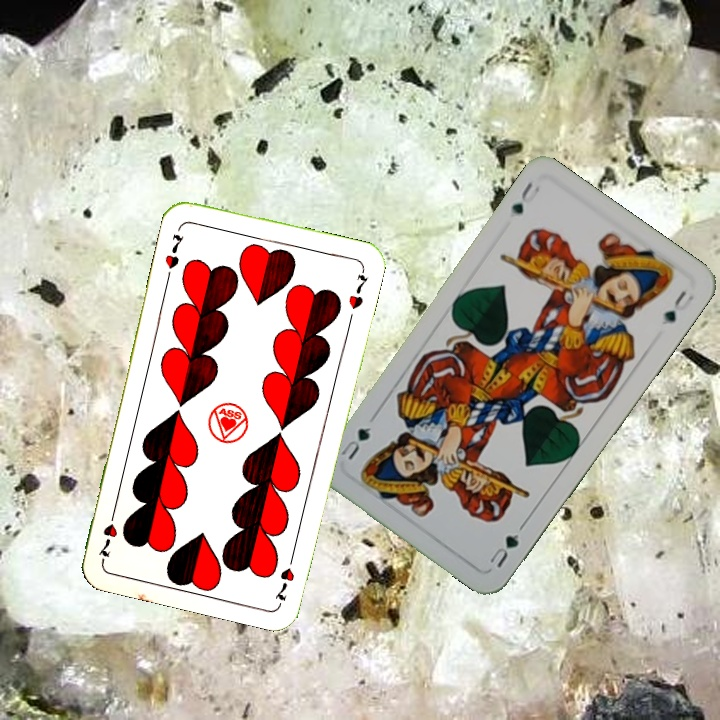GU: (485, 521, 527, 571), (507, 178, 543, 217)
H7: (270, 548, 298, 603), (161, 230, 187, 272)
